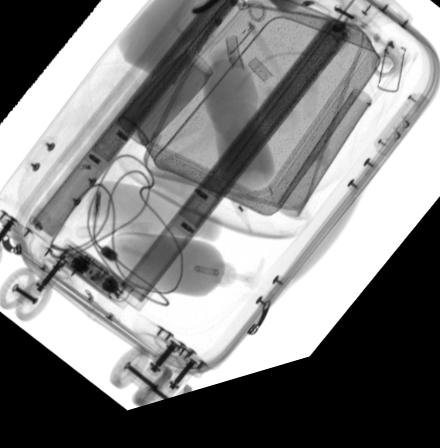Pliers: (192, 0, 235, 27)
